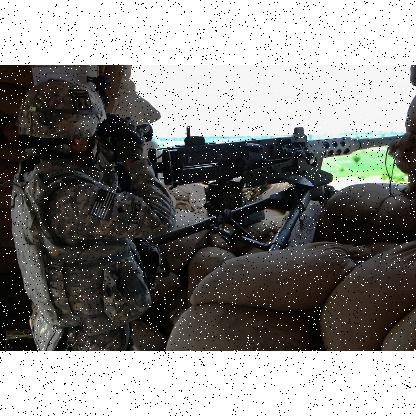gun: (144, 126, 402, 248)
